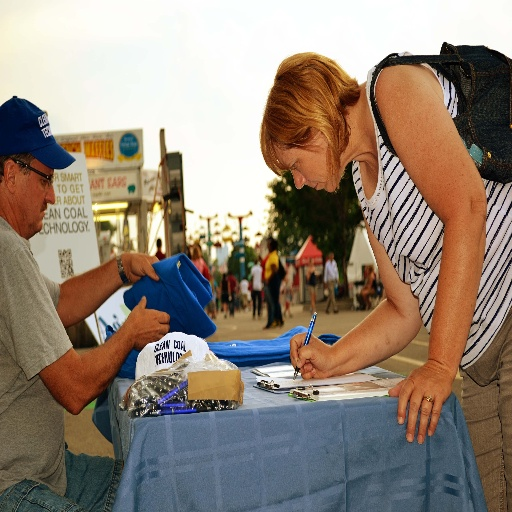hand: (387, 362, 452, 446), (126, 295, 170, 350), (289, 329, 333, 379), (125, 253, 159, 284), (324, 282, 328, 291), (335, 278, 340, 283)
